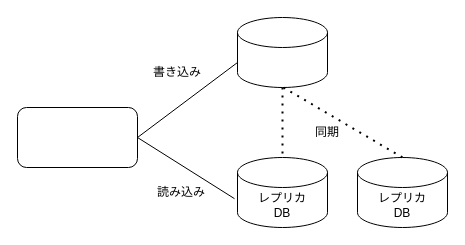
Some shapes in this 465 by 245 pixel diagram are drawn without their labels. The centre of each missing label's shape, as x and y in pixels:
サーバー: (x=77, y=137)
ソース DB: (x=282, y=52)
